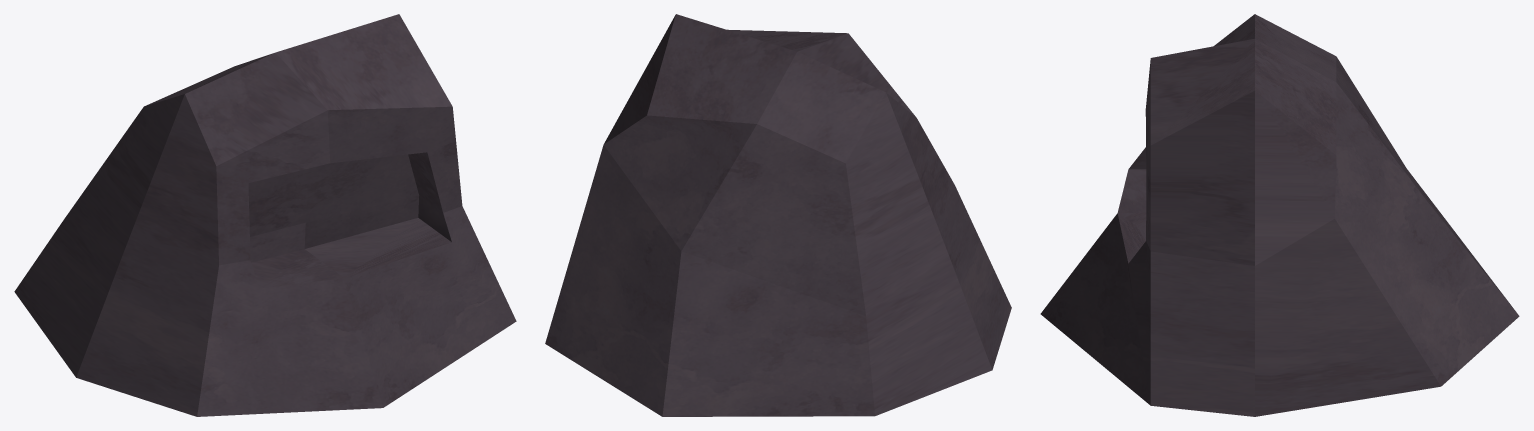
The model's file is stone_cabinet2.fbx.
3 views of the same model, side by side, from view 1: azimuth 30°, elevation 25°; view 2: azimuth 150°, elevation 25°; view 3: azimuth 270°, elevation 25° (orthographic). The views are drawn at different scales.
Visible parts, largest first — view 1: stone_cabinet2; view 2: stone_cabinet2; view 3: stone_cabinet2.
Boxes of the visible parts, x1,y1,x2,y2 form: stone_cabinet2: [14, 14, 516, 416]; stone_cabinet2: [545, 14, 1011, 416]; stone_cabinet2: [1040, 14, 1519, 416].
Bounding box in the file's own units: 8.06 × 5.34 × 8.17.
1 material, 1 textured.
